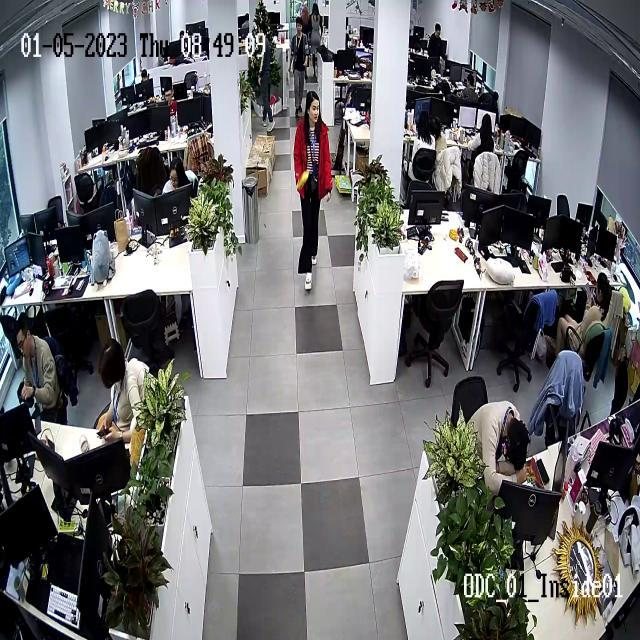person: (294, 90, 333, 293), (94, 339, 150, 445), (16, 314, 64, 429), (468, 401, 531, 488), (558, 272, 617, 356), (253, 34, 281, 132), (289, 17, 309, 118), (411, 105, 435, 178), (466, 115, 501, 162), (163, 161, 195, 196), (160, 86, 181, 132), (427, 21, 448, 61)
